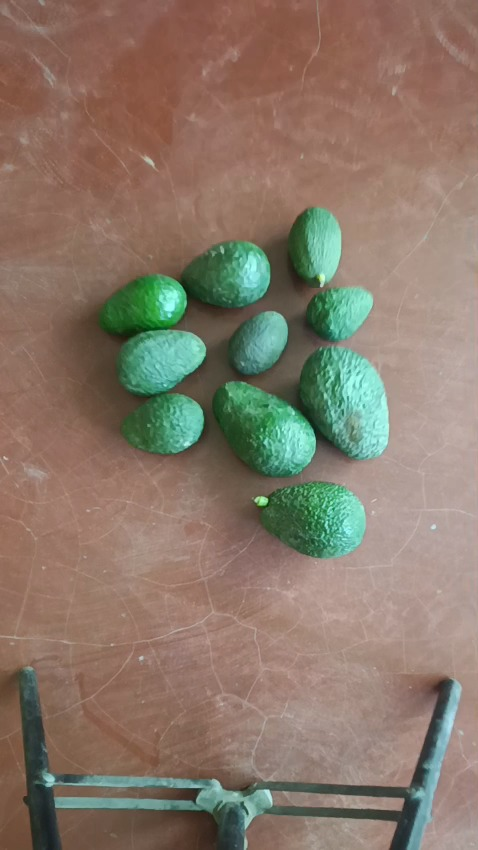Primera: (298, 345, 390, 459), (212, 382, 316, 475), (255, 481, 367, 557)
Segunda: (116, 327, 208, 395), (181, 242, 271, 309), (99, 274, 188, 337), (121, 391, 206, 454)
Tercera: (287, 207, 341, 285), (227, 310, 288, 377), (306, 286, 374, 342)
